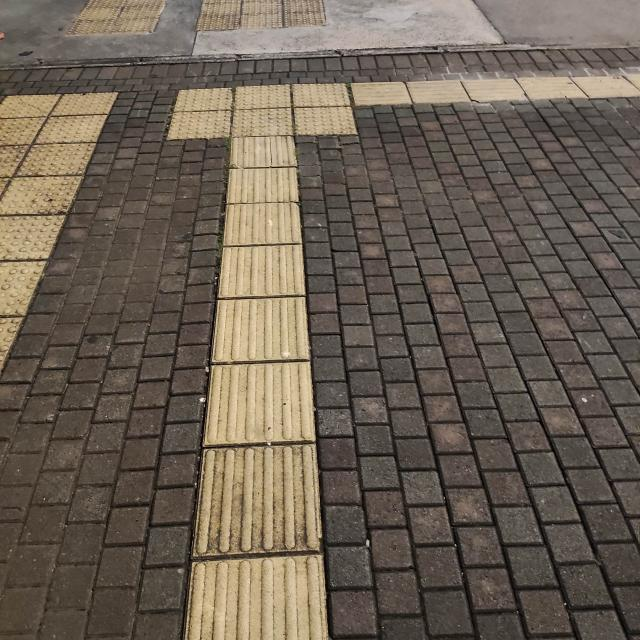kanan: (223, 70, 428, 158)
